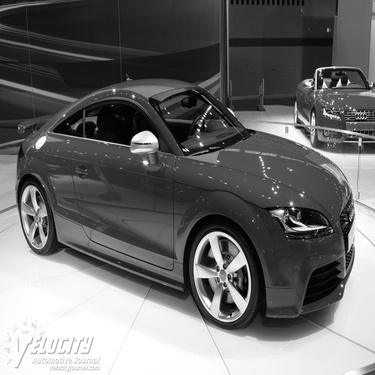car: (13, 71, 359, 337), (290, 58, 372, 151)
